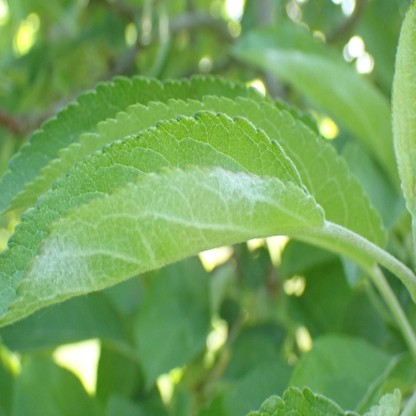powder: (28, 239, 94, 295), (209, 166, 279, 207), (363, 389, 401, 416)
